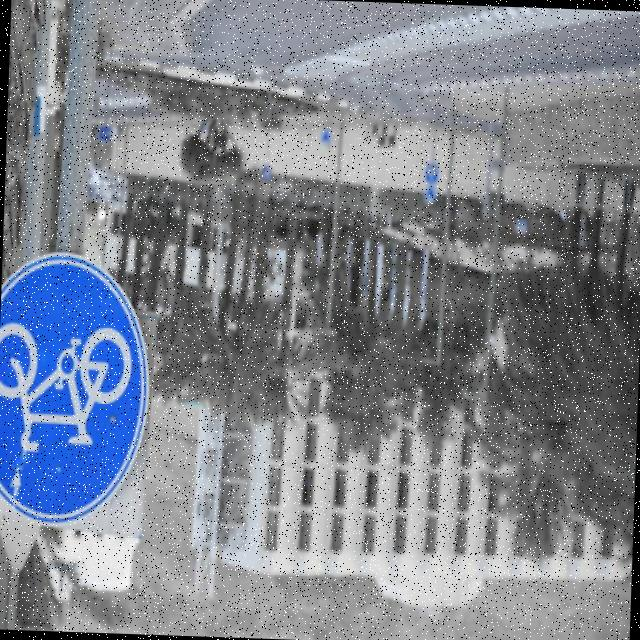bicycle: (0, 246, 169, 537)
